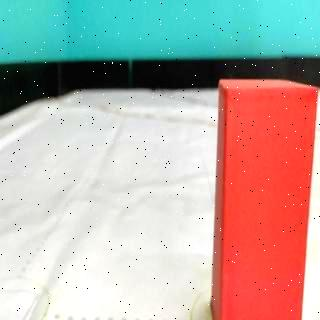redbox: (211, 78, 319, 320)
